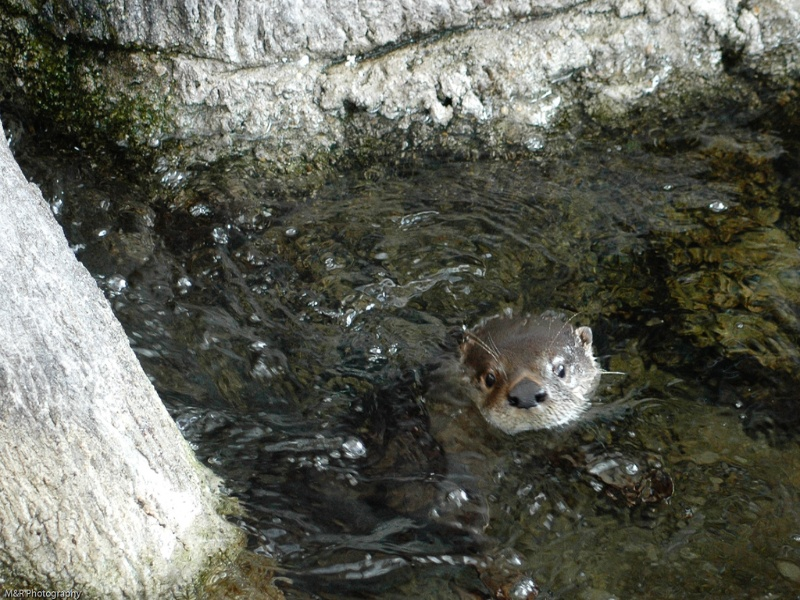minkish: (450, 300, 604, 441)
